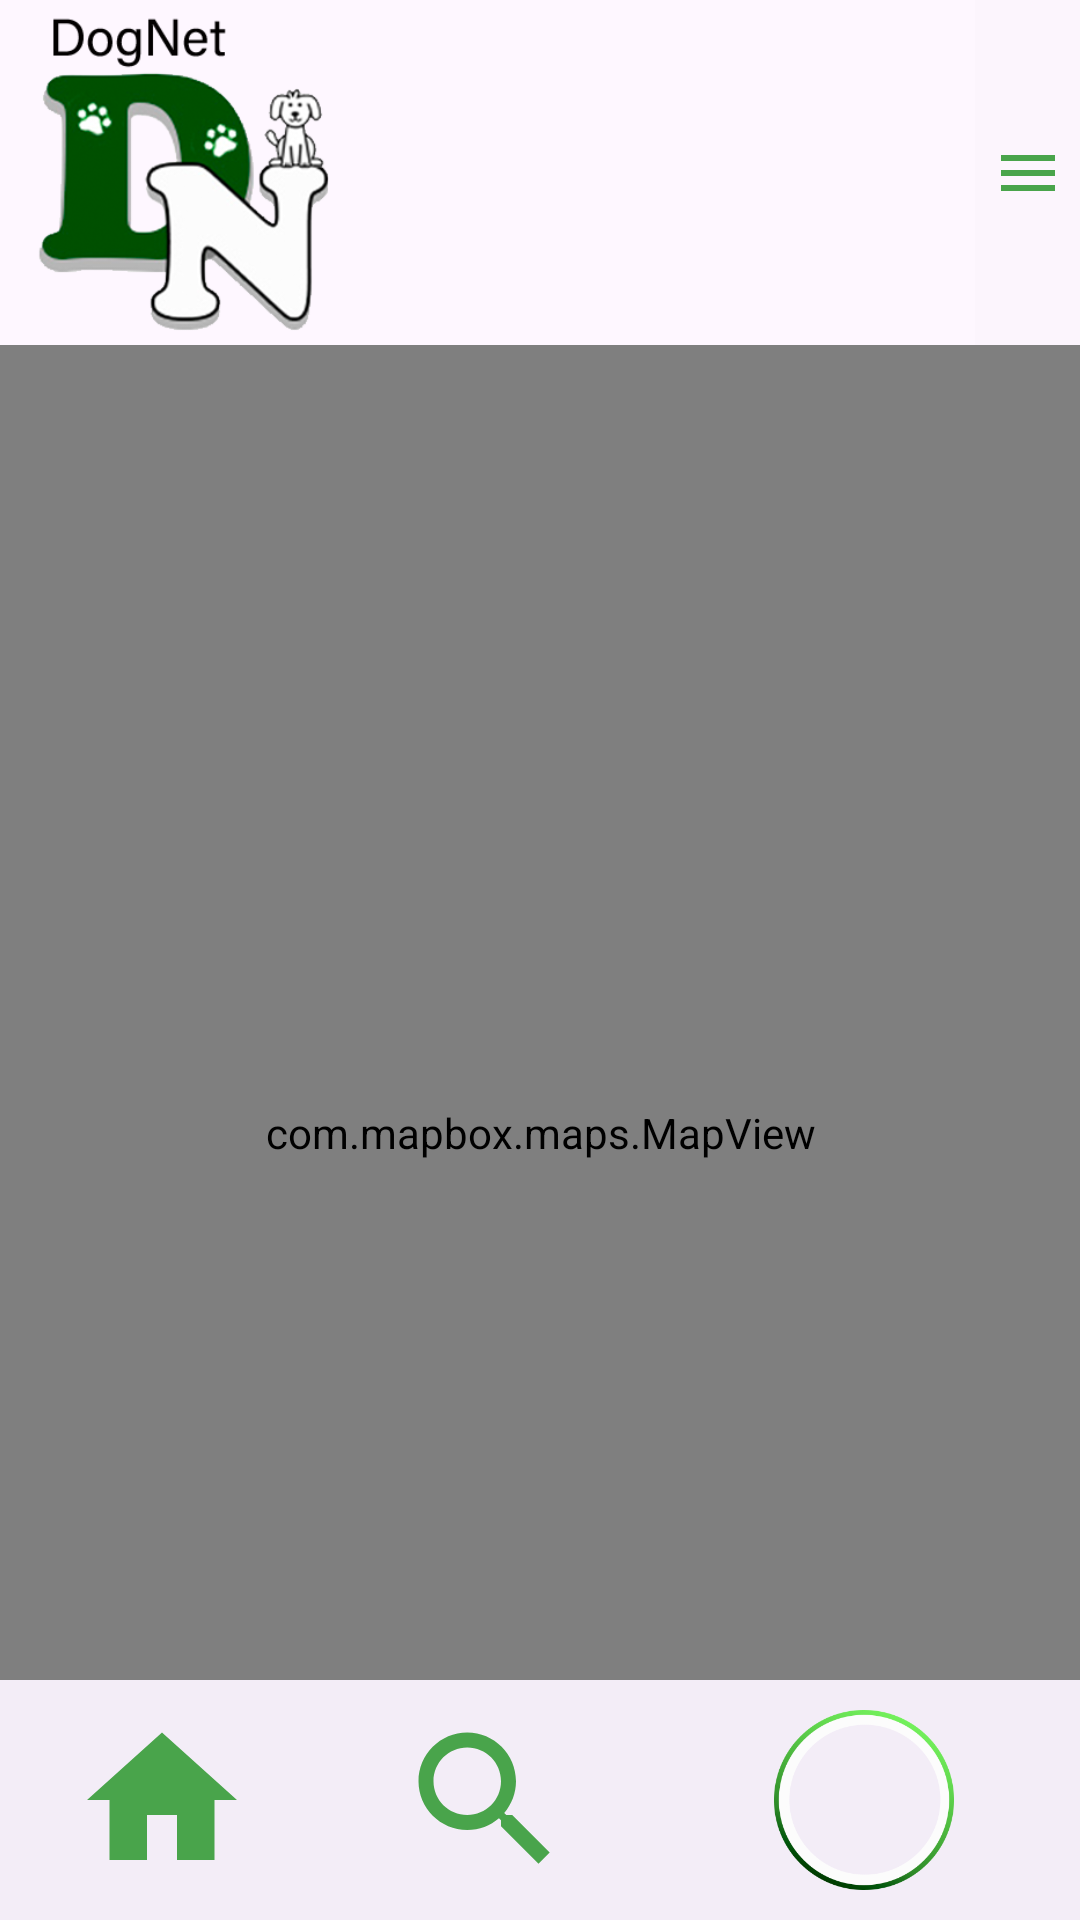

Named icons in this screenshot (1080*1920) and their bounding boxes, (x1, y1, x2, y2):
home: (87, 1733, 237, 1860)
menu: (1001, 155, 1055, 191)
search: (418, 1732, 550, 1864)
